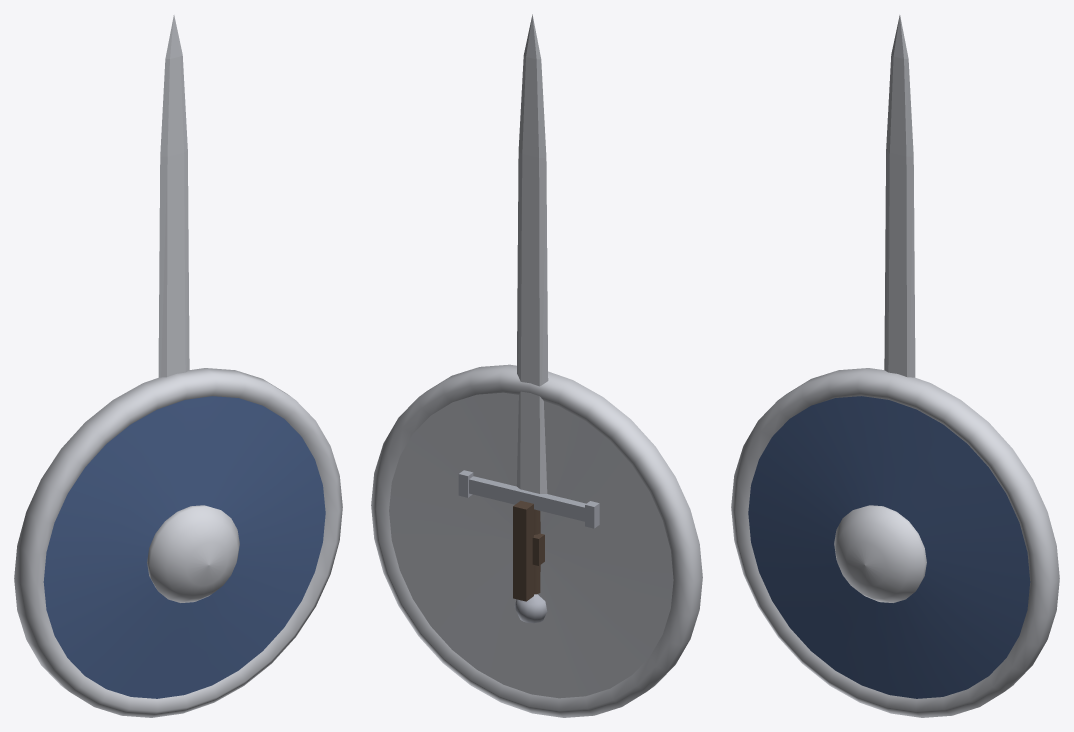
Rendered from props.glb.
3 renders of one model, left to right at view 1: azimuth 30°, elevation 25°; view 2: azimuth 150°, elevation 25°; view 3: azimuth 330°, elevation 25°, orthographic.
Parts seen in each view (by area): view 1: Shield, Sword; view 2: Shield, Sword; view 3: Shield, Sword.
Boxes of the visible parts, <box> form: Shield: <box>14,368,342,717</box>; Sword: <box>158,15,189,377</box>; Shield: <box>371,364,702,717</box>; Sword: <box>458,14,599,623</box>; Shield: <box>731,368,1059,717</box>; Sword: <box>884,15,915,377</box>.
Size of the model in its own units: 0.624 by 1.29 by 0.161.
